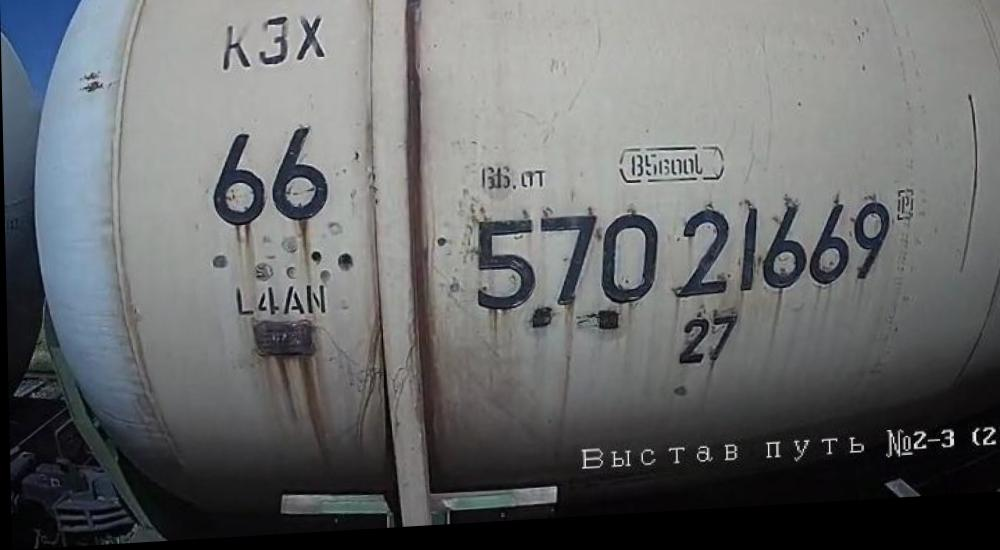Wagon-number: (468, 201, 896, 322)
